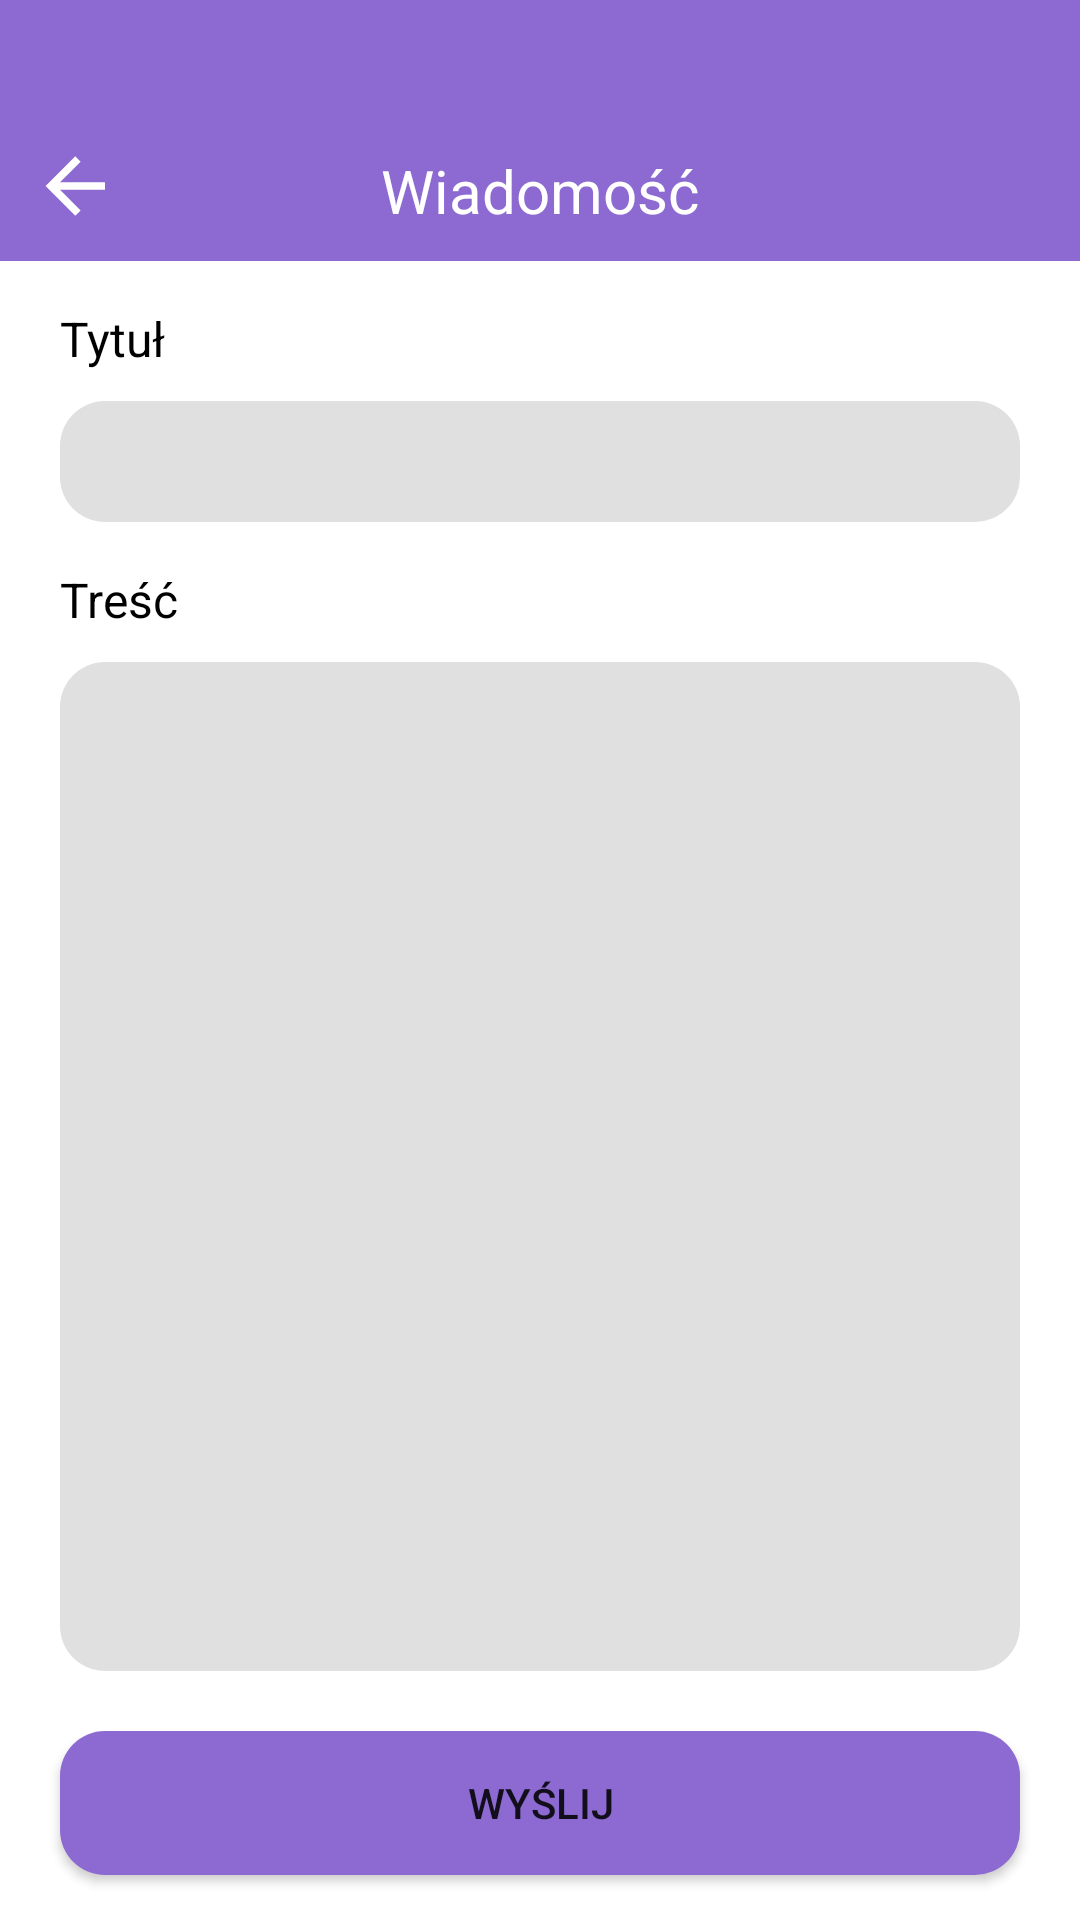

Point at icon controls on the screen. Image size 1080*1920, points as point (x, y).
arrow left: point (75, 186)
